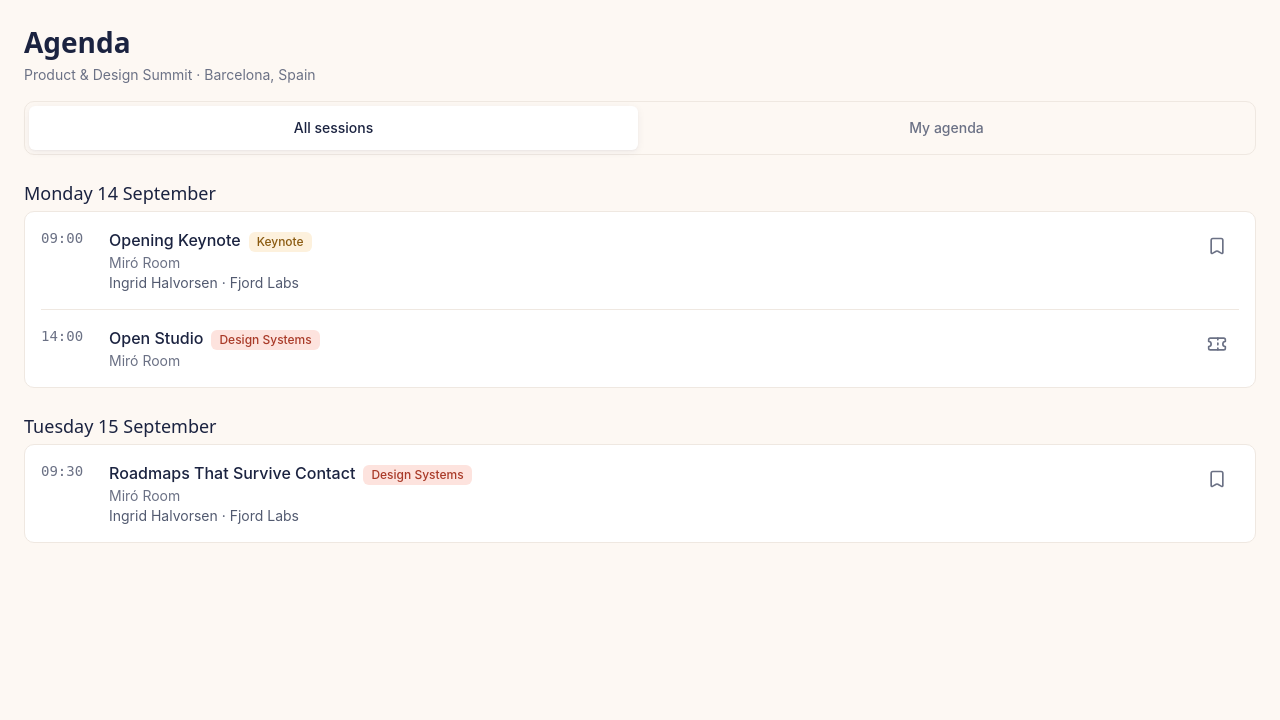
Test: the commitment control (FR-1063) › a refused enrolment renders the server’s own sentence, and the state does not change
Check: the link "Open Studio" is shown, box x1=109 y1=328 x2=203 y2=348
Click the button named "Take a place in Open Studio": (1217, 344) x1=1195 y1=322 x2=1239 y2=366
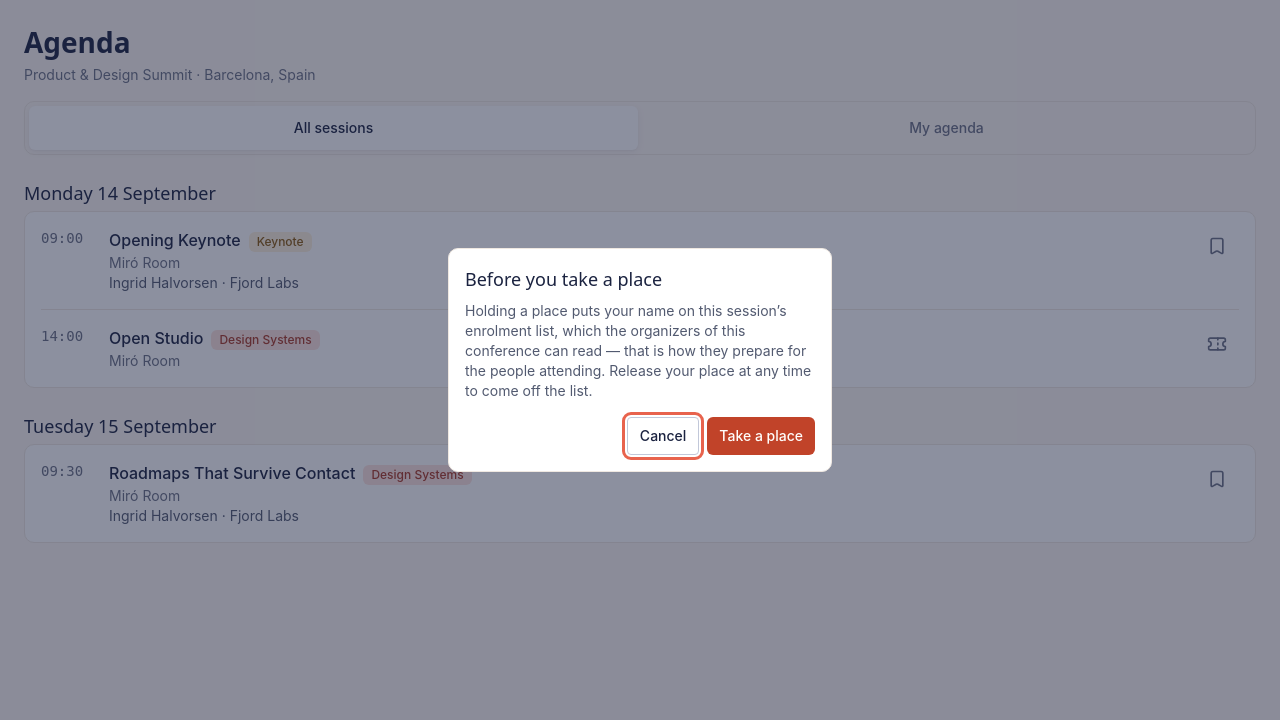
Click the button "Take a place": (761, 436) x1=707 y1=417 x2=815 y2=455
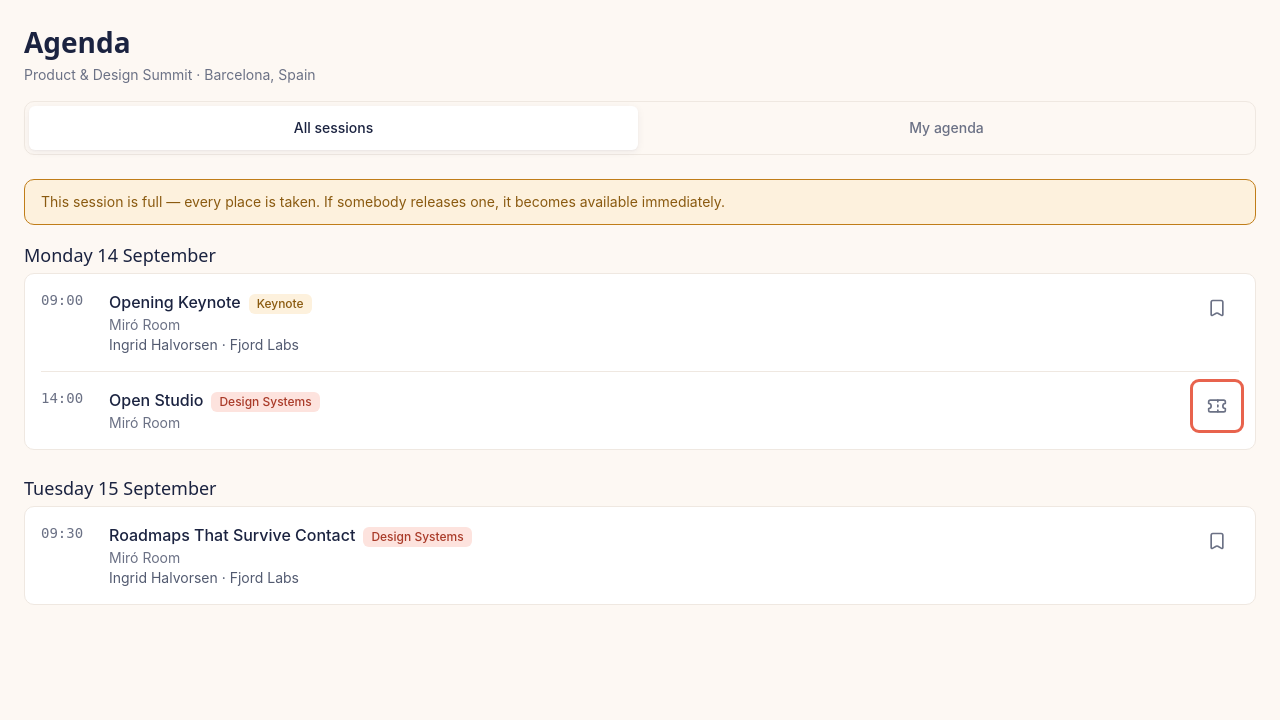
Check: the button named "Take a place in Open Studio" is shown, box x1=1195 y1=384 x2=1239 y2=428
Check: the message shows "This session is full", box x1=41 y1=193 x2=725 y2=210
